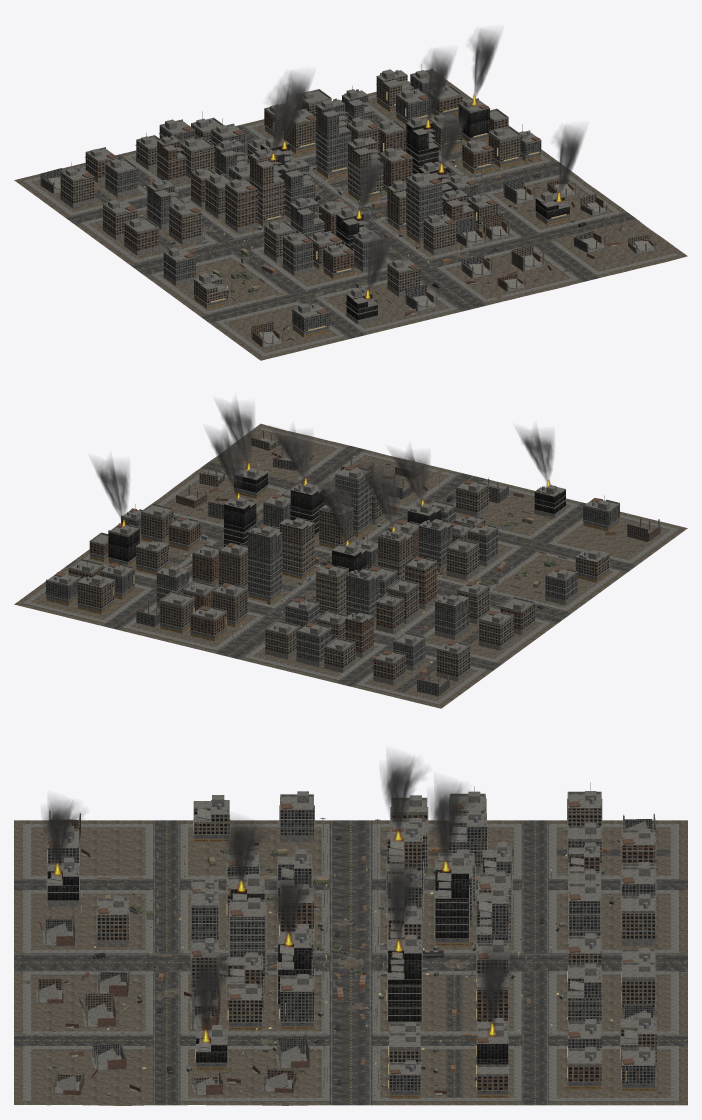
Rendered from Zombie_Apocalypse_City_Complete.glb.
3 views of the same model, one above another, from view 1: azimuth 30°, elevation 25°; view 2: azimuth 150°, elevation 25°; view 3: azimuth 270°, elevation 25° (orthographic). The views are drawn at different scales.
Visible parts, largest first — view 1: Buildings, Roads_and_Terrain, Military_Assets, Environmental_Debris, Props_and_Street_Objects, Destroyed_Vehicles; view 2: Buildings, Roads_and_Terrain, Military_Assets, Environmental_Debris, Props_and_Street_Objects; view 3: Roads_and_Terrain, Buildings, Props_and_Street_Objects, Environmental_Debris, Military_Assets, Destroyed_Vehicles.
Boxes of the visible parts, <box> form: Buildings: <box>40,29,657,348</box>; Roads_and_Terrain: <box>14,80,687,360</box>; Military_Assets: <box>198,205,524,315</box>; Environmental_Debris: <box>75,140,640,348</box>; Props_and_Street_Objects: <box>139,127,574,309</box>; Destroyed_Vehicles: <box>94,167,586,288</box>; Buildings: <box>45,400,661,696</box>; Roads_and_Terrain: <box>14,423,687,708</box>; Military_Assets: <box>278,506,580,611</box>; Environmental_Debris: <box>41,441,653,680</box>; Props_and_Street_Objects: <box>172,470,551,646</box>; Roads_and_Terrain: <box>14,820,687,1105</box>; Buildings: <box>36,755,657,1098</box>; Props_and_Street_Objects: <box>67,817,607,1087</box>; Environmental_Debris: <box>33,829,669,1097</box>; Military_Assets: <box>80,838,527,1037</box>; Destroyed_Vehicles: <box>92,835,609,1085</box>.
Size of the model in its own units: 300 by 88.97 by 300.
19 materials, 15 textured.
